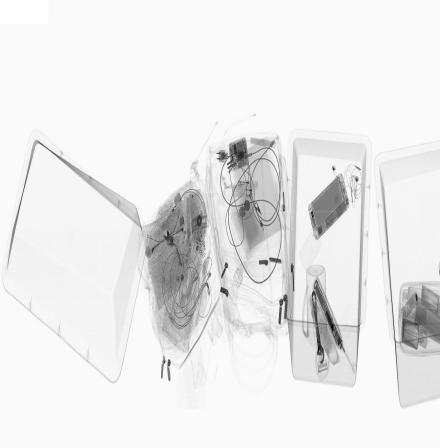Lighter: (238, 180, 259, 191)
